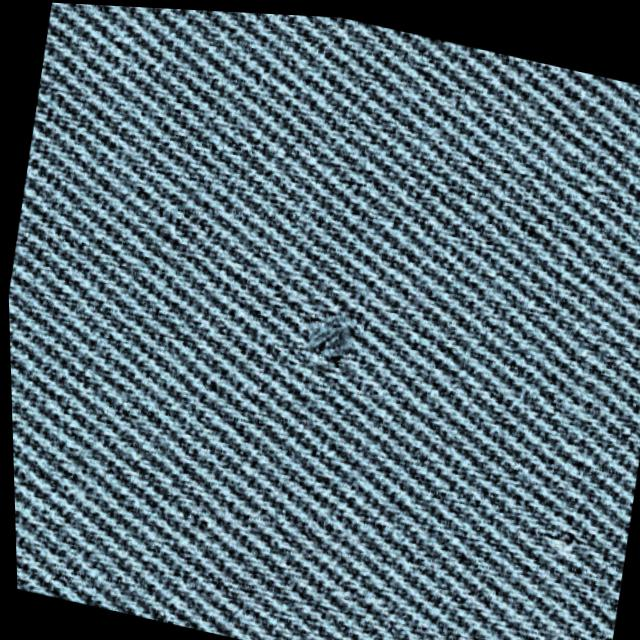Hole: (274, 274, 389, 398)
